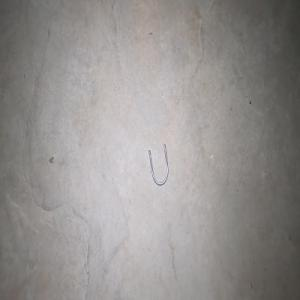ClampPart: (148, 143, 168, 186)
